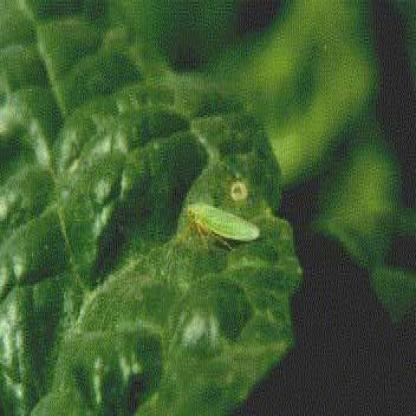Green-Leafhopper: (181, 190, 264, 253)
